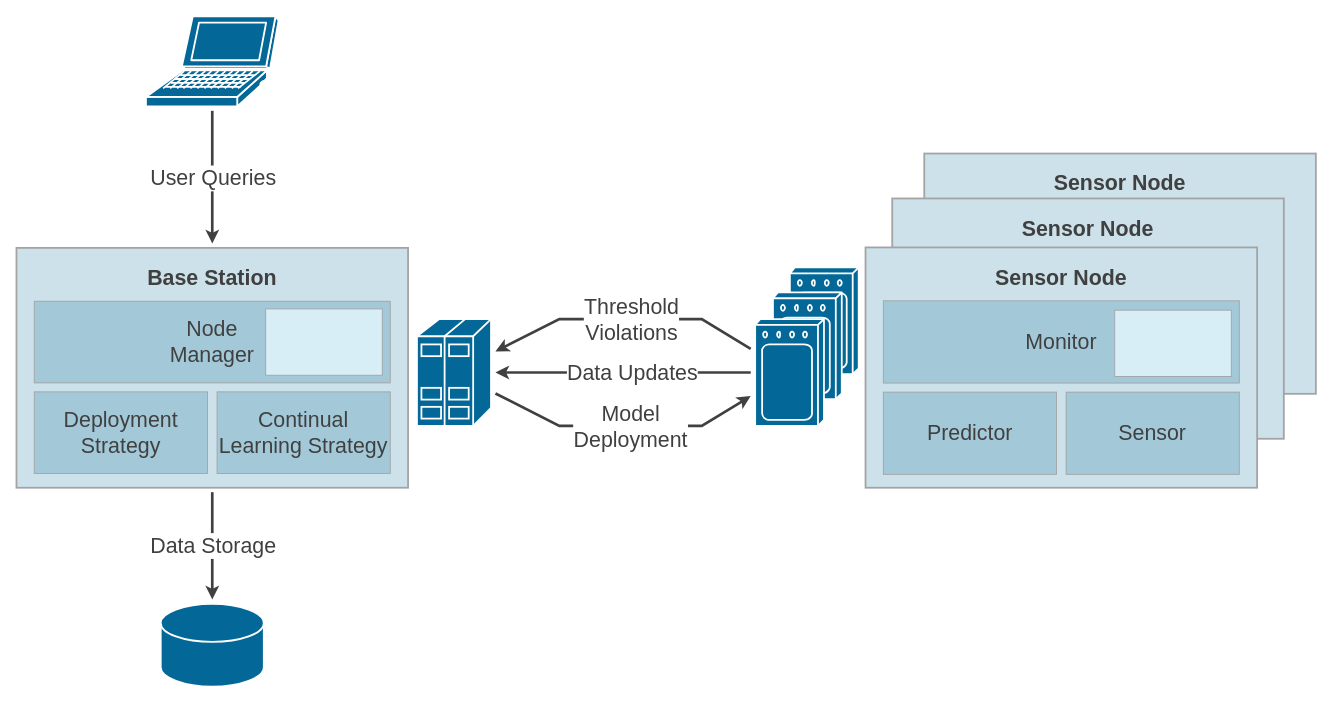
Some shapes in this 1331 by 702 pixel diagram are drawn without their labels. Each missing label, with the centre of its shape:
Node: the point at 323,341
Threshold Metric: the point at 1172,342
